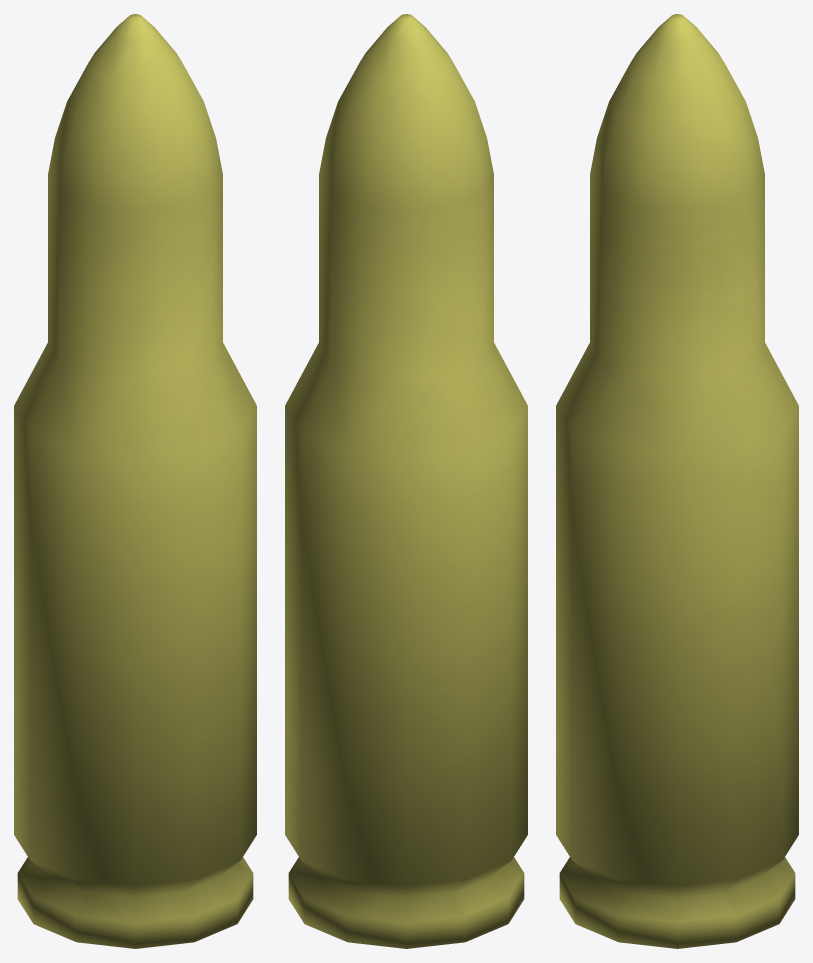
File: bullet2.fbx
3 views of the same model, side by side, from view 1: azimuth 30°, elevation 25°; view 2: azimuth 150°, elevation 25°; view 3: azimuth 270°, elevation 25° (orthographic).
Visible parts, largest first — view 1: bullet2; view 2: bullet2; view 3: bullet2.
Boxes of the visible parts, bbox=[...] form: bullet2: bbox=[14, 14, 256, 948]; bullet2: bbox=[285, 14, 527, 948]; bullet2: bbox=[556, 14, 798, 948].
Size of the model in its own units: 1.47 by 5.9 by 1.47.
1 material, 1 textured.
